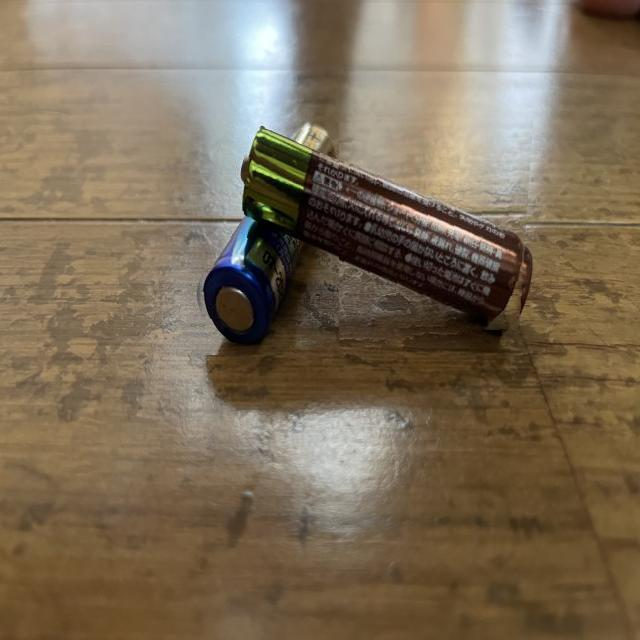battery: (232, 119, 534, 340), (190, 116, 339, 355)
